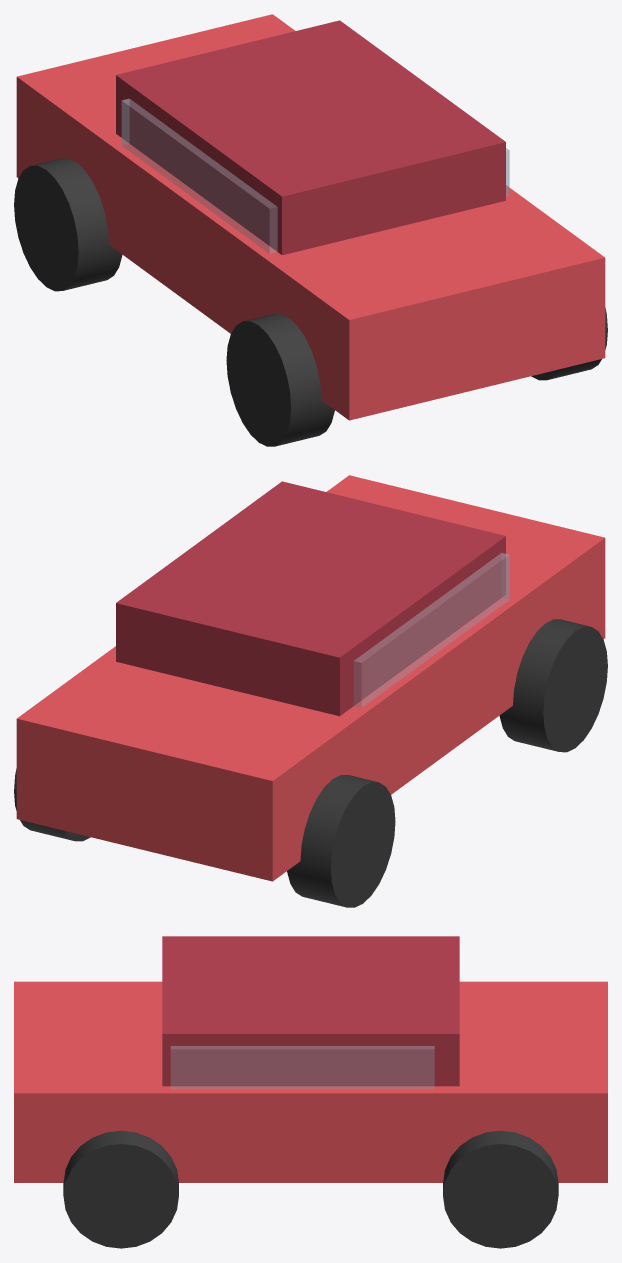
Rendered from voiture_lowpoly.gltf.
3 renders of one model, top to bottom at view 1: azimuth 30°, elevation 25°; view 2: azimuth 150°, elevation 25°; view 3: azimuth 270°, elevation 25°, orthographic. The views are drawn at different scales.
Parts seen in each view (by area): view 1: BodyNode, RoofNode, Wheel_FR, Wheel_RR, GlassNode, Wheel_FL; view 2: BodyNode, RoofNode, Wheel_FR, Wheel_RR, GlassNode, Wheel_RL; view 3: BodyNode, RoofNode, GlassNode, Wheel_FL, Wheel_RL.
Part boxes in pixels (x1=…): BodyNode: x1=16, y1=14, x2=605, y2=420; RoofNode: x1=116, y1=20, x2=505, y2=255; Wheel_FR: x1=226, y1=314, x2=334, y2=446; Wheel_RR: x1=14, y1=158, x2=122, y2=291; GlassNode: x1=121, y1=98, x2=509, y2=253; Wheel_FL: x1=531, y1=307, x2=607, y2=380; BodyNode: x1=16, y1=475, x2=605, y2=881; RoofNode: x1=116, y1=481, x2=505, y2=716; Wheel_FR: x1=499, y1=619, x2=607, y2=752; Wheel_RR: x1=287, y1=775, x2=395, y2=907; GlassNode: x1=354, y1=553, x2=509, y2=707; Wheel_RL: x1=14, y1=768, x2=90, y2=841; BodyNode: x1=14, y1=981, x2=607, y2=1182; RoofNode: x1=162, y1=936, x2=459, y2=1086; GlassNode: x1=171, y1=1046, x2=434, y2=1089; Wheel_FL: x1=63, y1=1130, x2=178, y2=1248; Wheel_RL: x1=443, y1=1130, x2=558, y2=1248.
Size of the model in its own units: 1.98 by 1.3 by 3.6.
